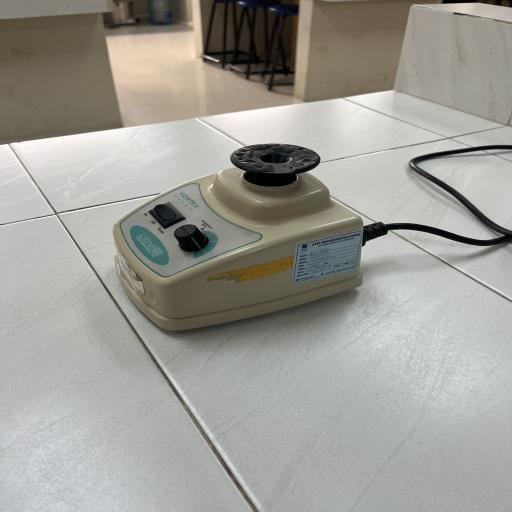Vortex_Mixer_LabNet: (100, 131, 378, 345)
